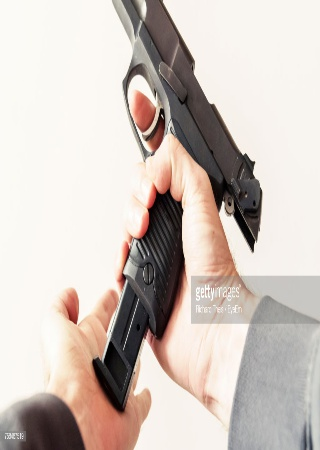handgun: (93, 1, 262, 411)
